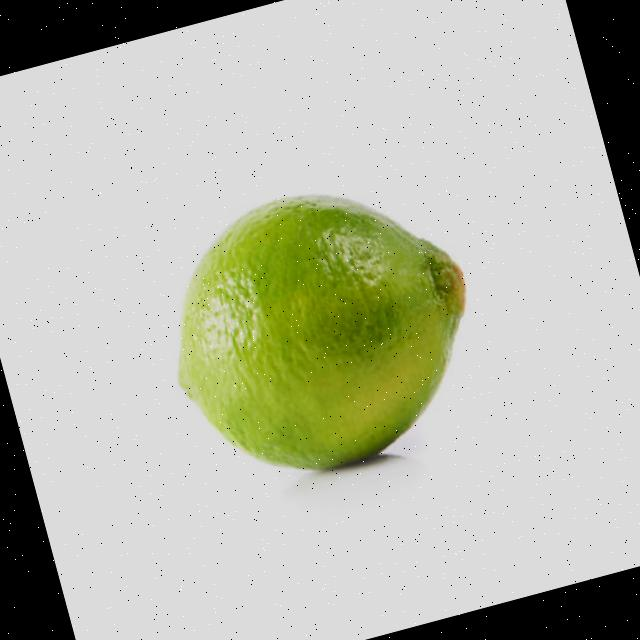Unripe: (136, 155, 498, 500)
